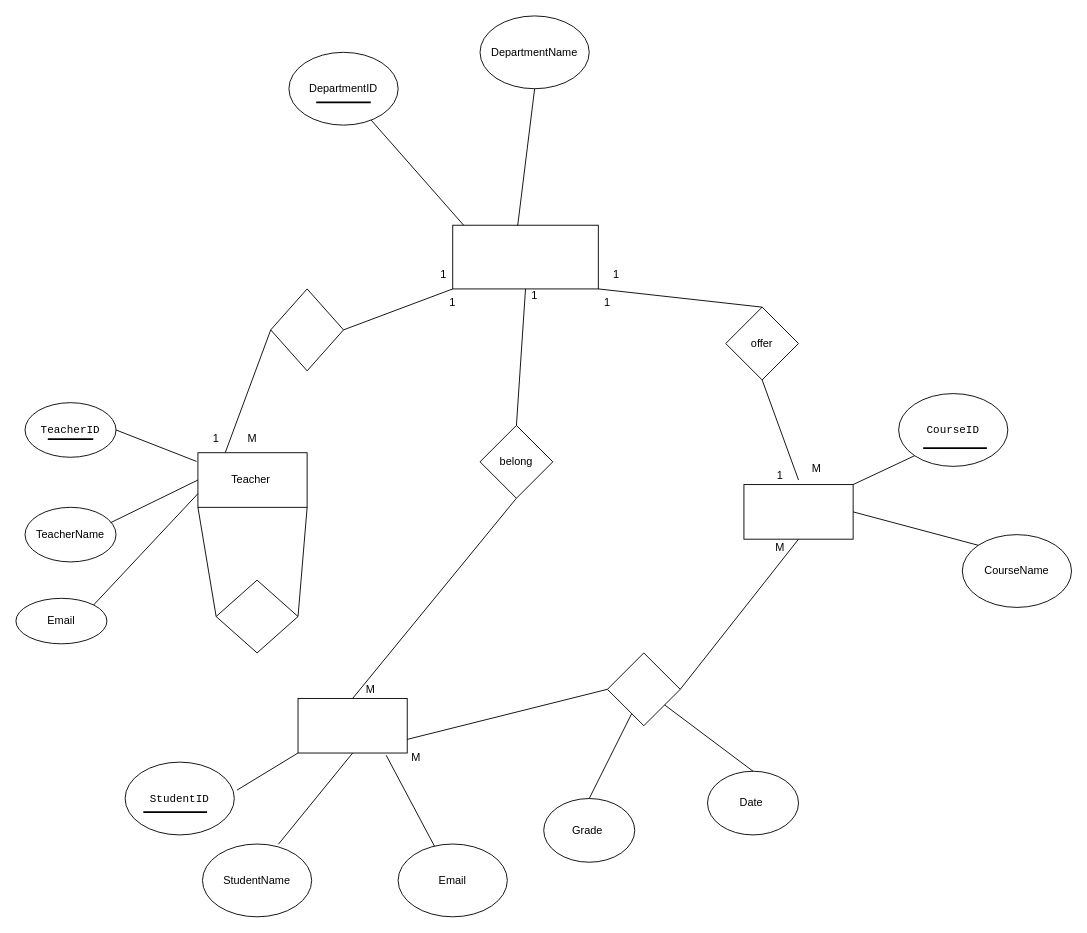
Some shapes in this 1087 by 933 pixel diagram are drawn without their labels. Each missing label, with the centre of its shape:
Course: point (798, 511)
Department: point (525, 256)
enroll: point (643, 689)
has: point (307, 329)
Student: point (352, 725)
supervise: point (256, 616)
